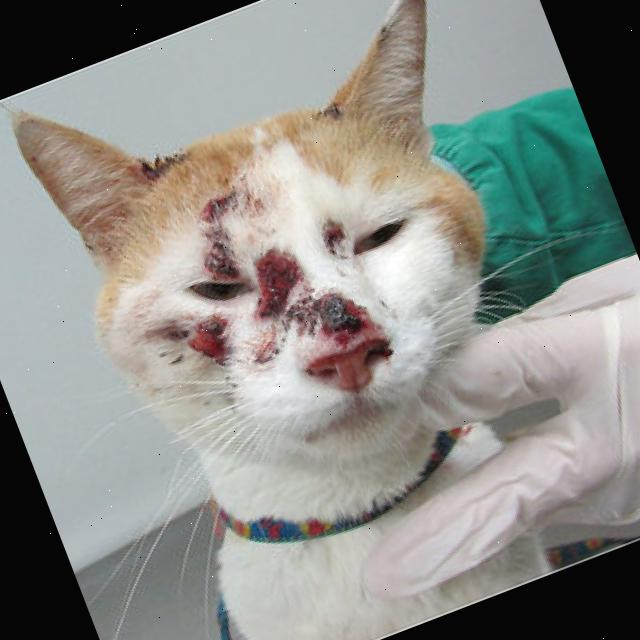cat-lump-and-bump: (244, 246, 312, 316), (310, 284, 371, 338), (196, 226, 248, 286), (184, 314, 237, 364), (136, 145, 184, 181), (194, 188, 240, 225), (313, 212, 352, 255), (248, 332, 286, 368), (148, 318, 188, 351), (291, 304, 316, 334)
